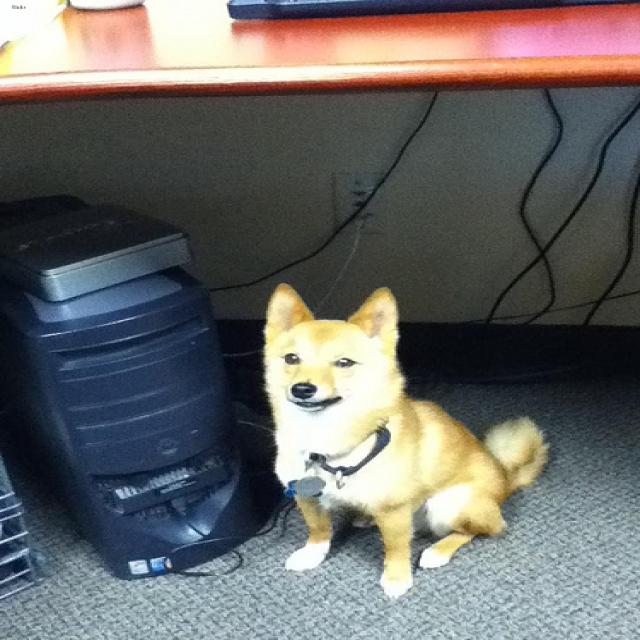dog: (263, 281, 396, 411)
